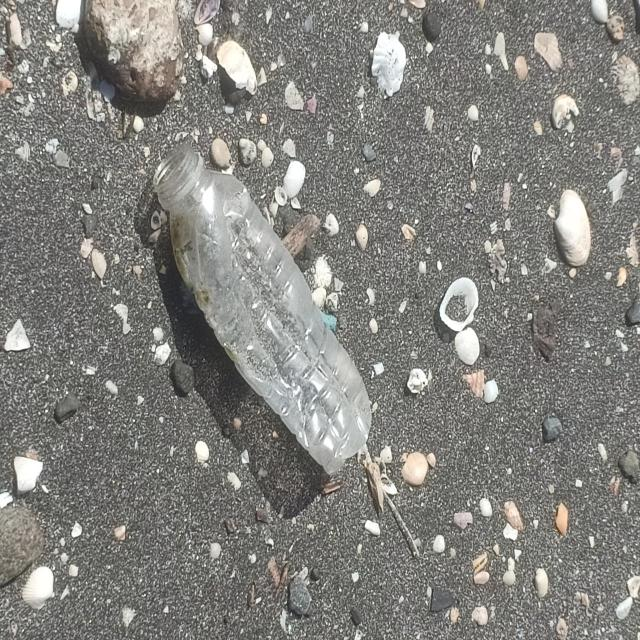litter: (151, 142, 373, 474)
